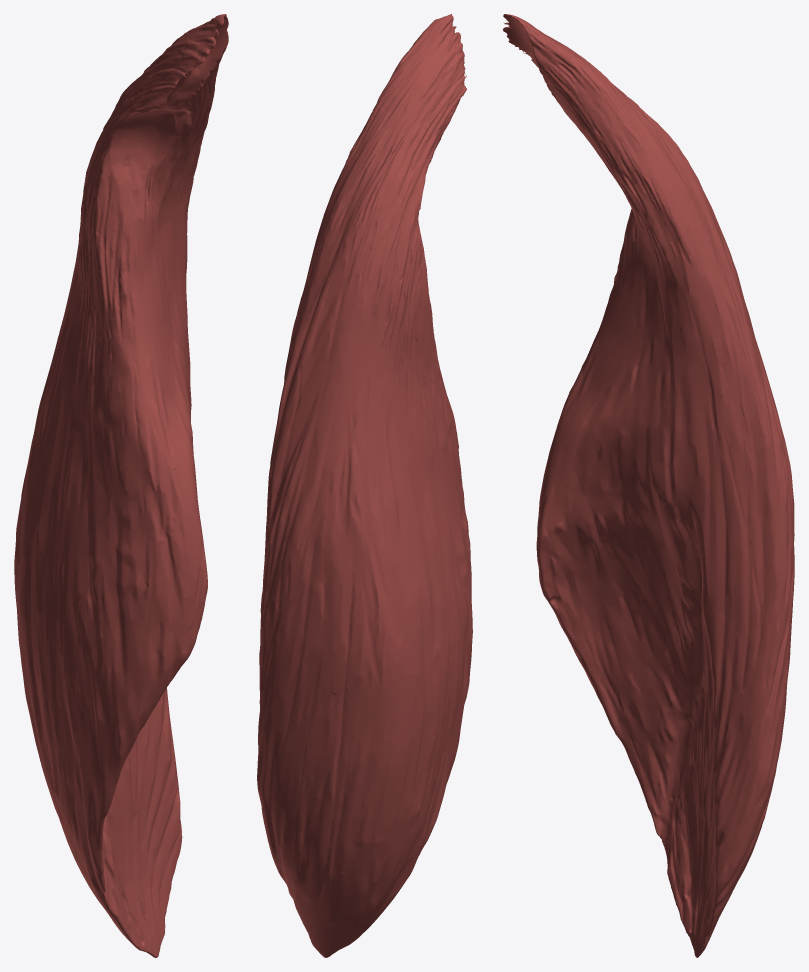
Rendered from FMA45958.glb.
3 views of the same model, side by side, from view 1: azimuth 30°, elevation 25°; view 2: azimuth 150°, elevation 25°; view 3: azimuth 270°, elevation 25° (orthographic). The views are drawn at different scales.
Visible parts, largest first — view 1: FMA45958; view 2: FMA45958; view 3: FMA45958.
Part boxes in pixels (x1=…): FMA45958: x1=14, y1=14, x2=228, y2=957; FMA45958: x1=257, y1=14, x2=472, y2=957; FMA45958: x1=503, y1=14, x2=794, y2=957.
Bounding box in the file's own units: 0.0495 × 0.2898 × 0.0831.
